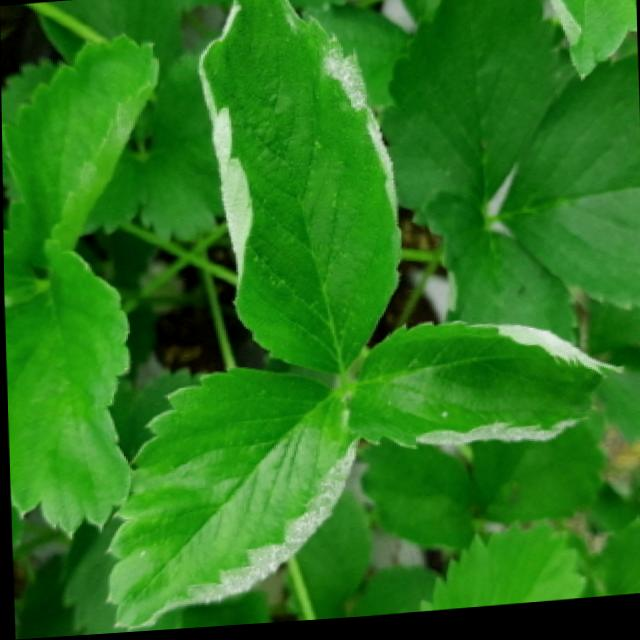Powdery Mildew Leaf: (198, 0, 400, 380), (102, 368, 356, 630), (344, 325, 627, 456), (545, 0, 637, 91)
